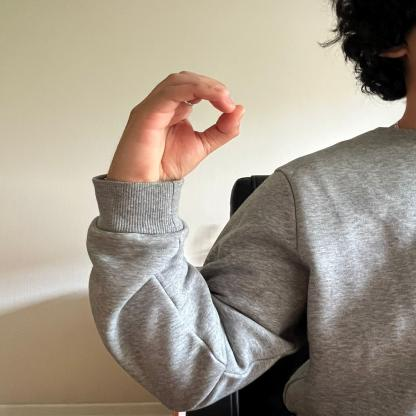O: (115, 65, 247, 187)
